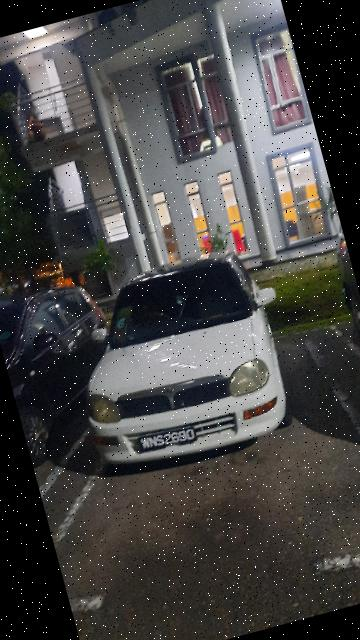License_Plate: (131, 417, 200, 460)
car: (53, 233, 314, 483)
